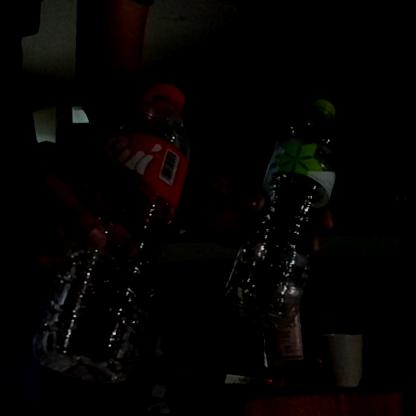plastic_bottles: (35, 75, 191, 386), (219, 92, 344, 326)
